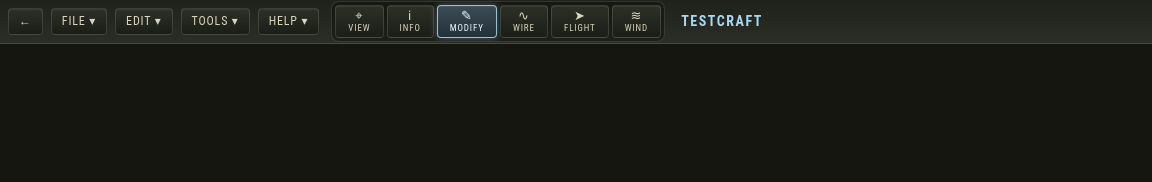
Test: TopBar — Tools ▾ lists the registry › every TOOLS entry is a menu item; the footer says more tools follow
The width and height of the screenshot is (1152, 182).
Click the button with test id "tools-menu" at (215, 22), box [181,8,250,35]
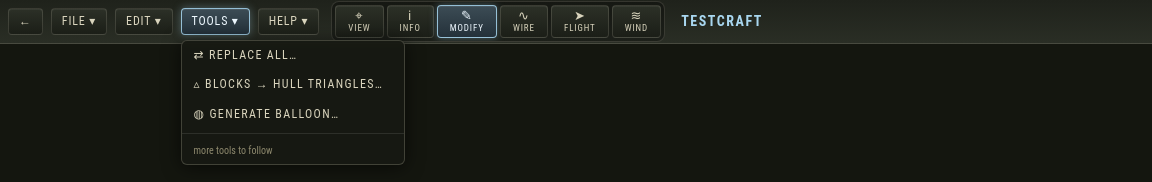
Now the button with test id "tool-replace-all" is shown, box [182,41,404,70]
Now the button with test id "tool-hullify" is shown, box [182,70,404,100]
Now the button with test id "tool-balloon" is shown, box [182,100,404,129]
